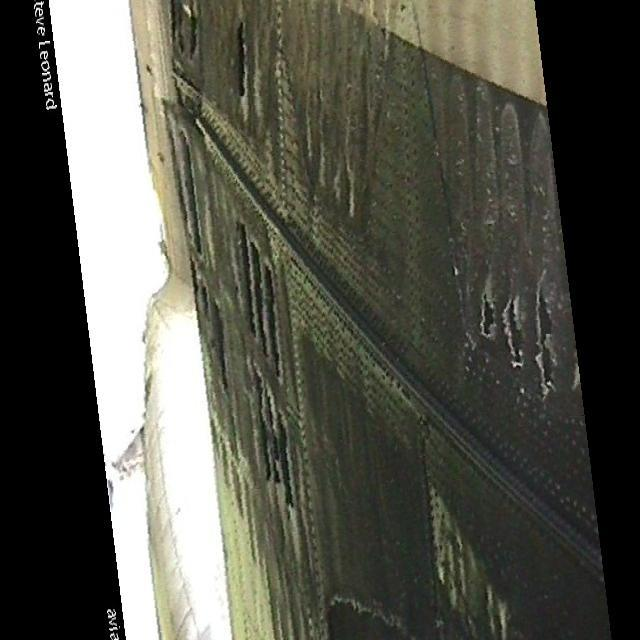crack: (475, 272, 573, 403)
